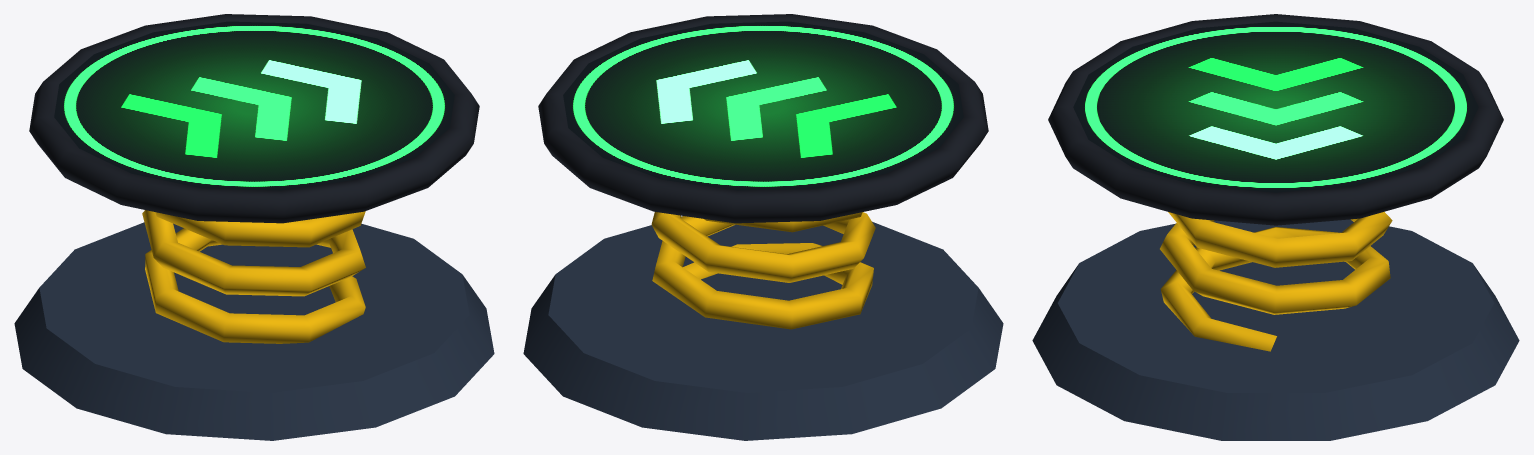
File: jump_pad.glb
3 renders of one model, left to right at view 1: azimuth 30°, elevation 25°; view 2: azimuth 150°, elevation 25°; view 3: azimuth 270°, elevation 25°, orthographic.
Visible parts, largest first — view 1: pad_top, base, spring; view 2: pad_top, base, spring; view 3: pad_top, base, spring.
Part boxes in pixels (bbox=[...]): pad_top: bbox=[29, 14, 479, 223]; base: bbox=[14, 222, 494, 440]; spring: bbox=[142, 210, 365, 343]; pad_top: bbox=[538, 14, 988, 223]; base: bbox=[523, 216, 1003, 440]; spring: bbox=[651, 212, 875, 329]; pad_top: bbox=[1048, 14, 1503, 225]; base: bbox=[1032, 219, 1519, 440]; spring: bbox=[1160, 211, 1392, 351].
Bounding box in the file's own units: 2.07 × 1.12 × 2.12.
4 materials, 1 textured.
